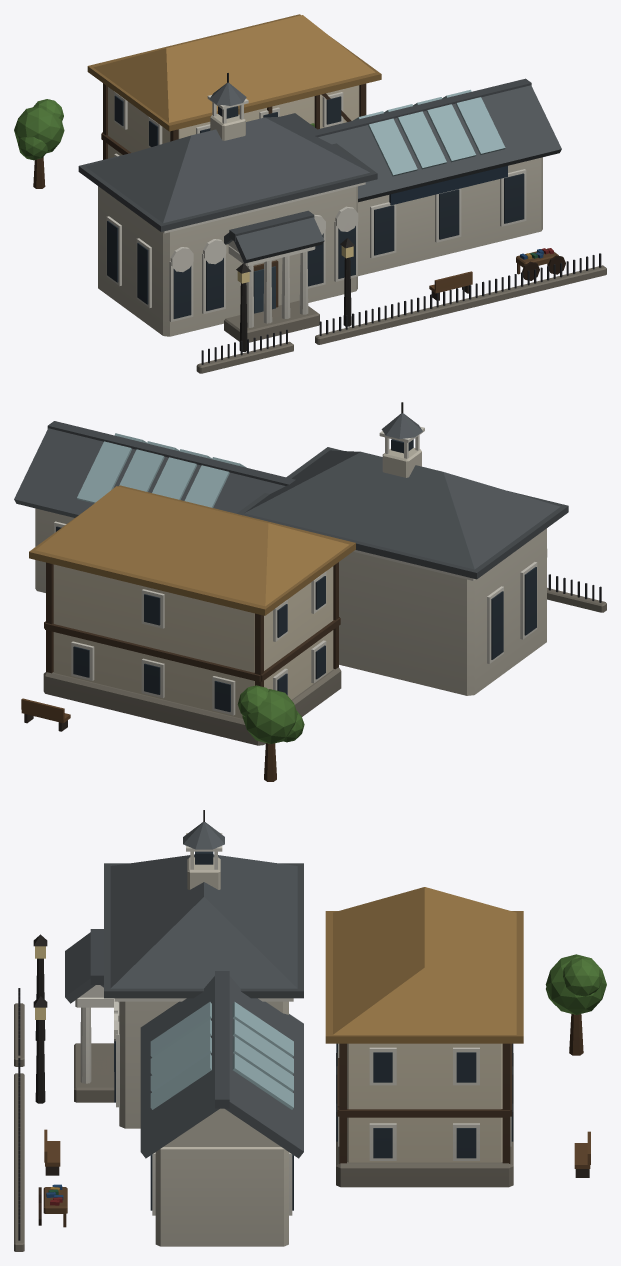
The model's file is library.glb.
3 renders of one model, top to bottom at view 1: azimuth 30°, elevation 25°; view 2: azimuth 150°, elevation 25°; view 3: azimuth 270°, elevation 25°, orthographic. The views are drawn at different scales.
Parts seen in each view (by area): view 1: library_model; view 2: library_model; view 3: library_model.
Boxes of the visible parts, x1,y1,x2,y2 form: library_model: (14,14,606,373); library_model: (14,402,606,781); library_model: (14,810,606,1251).
Size of the model in its own units: 1.88 by 0.96 by 1.92.
